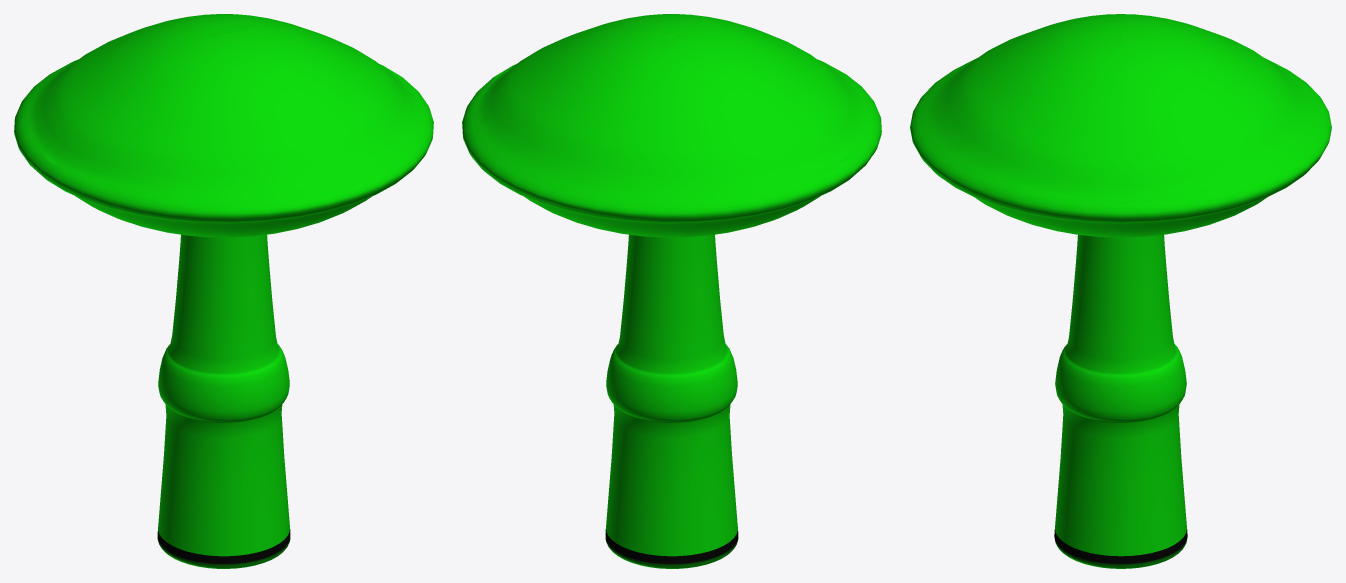
Rendered from Buttontop.fbx.
The picture shows the model from 3 angles, left to right: view 1: azimuth 30°, elevation 25°; view 2: azimuth 150°, elevation 25°; view 3: azimuth 270°, elevation 25°; orthographic projection.
Parts seen in each view (by area): view 1: Buttontop; view 2: Buttontop; view 3: Buttontop.
Boxes of the visible parts, left/top/right/bottom form: Buttontop: left=14, top=14, right=433, bottom=568; Buttontop: left=462, top=14, right=881, bottom=568; Buttontop: left=910, top=14, right=1331, bottom=568.
Bounding box in the file's own units: 2.09 × 2.79 × 2.1.
